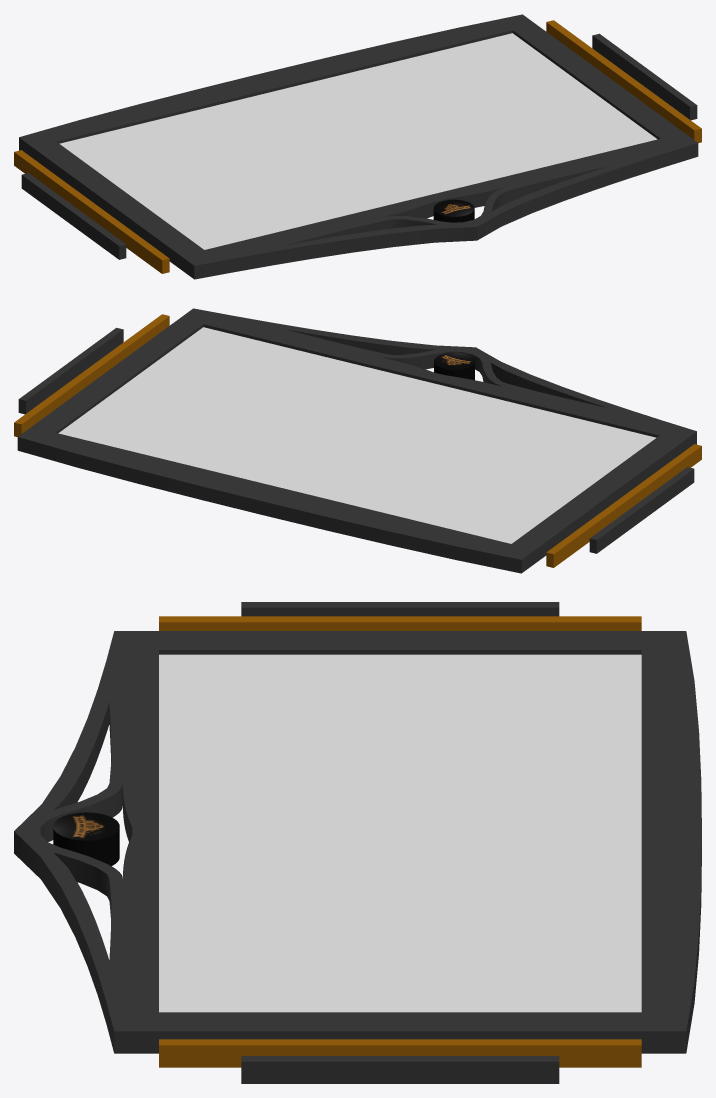
Rendered from CORNICE.gltf.
3 views of the same model, one above another, from view 1: azimuth 30°, elevation 25°; view 2: azimuth 150°, elevation 25°; view 3: azimuth 270°, elevation 25° (orthographic). The views are drawn at different scales.
Parts seen in each view (by area): view 1: Plane, Cornice_novembre, Cornice_novembre.002, Cornice_novembre.001; view 2: Plane, Cornice_novembre, Cornice_novembre.002, Cornice_novembre.001; view 3: Plane, Cornice_novembre, Cornice_novembre.002, Cornice_novembre.001.
Part boxes in pixels (x1,y1,x2,y2): Plane: (59,33,657,249); Cornice_novembre: (19,14,698,279); Cornice_novembre.002: (14,20,701,273); Cornice_novembre.001: (433,199,474,222); Plane: (58,327,656,543); Cornice_novembre: (17,308,696,573); Cornice_novembre.002: (14,314,701,567); Cornice_novembre.001: (434,352,474,380); Plane: (159,654,641,1012); Cornice_novembre: (14,602,701,1083); Cornice_novembre.002: (159,616,641,1067); Cornice_novembre.001: (53,812,119,865).
Bounding box in the file's own units: 7.63 × 0.2359 × 4.83.
Materials: 4 (1 with a texture image).
